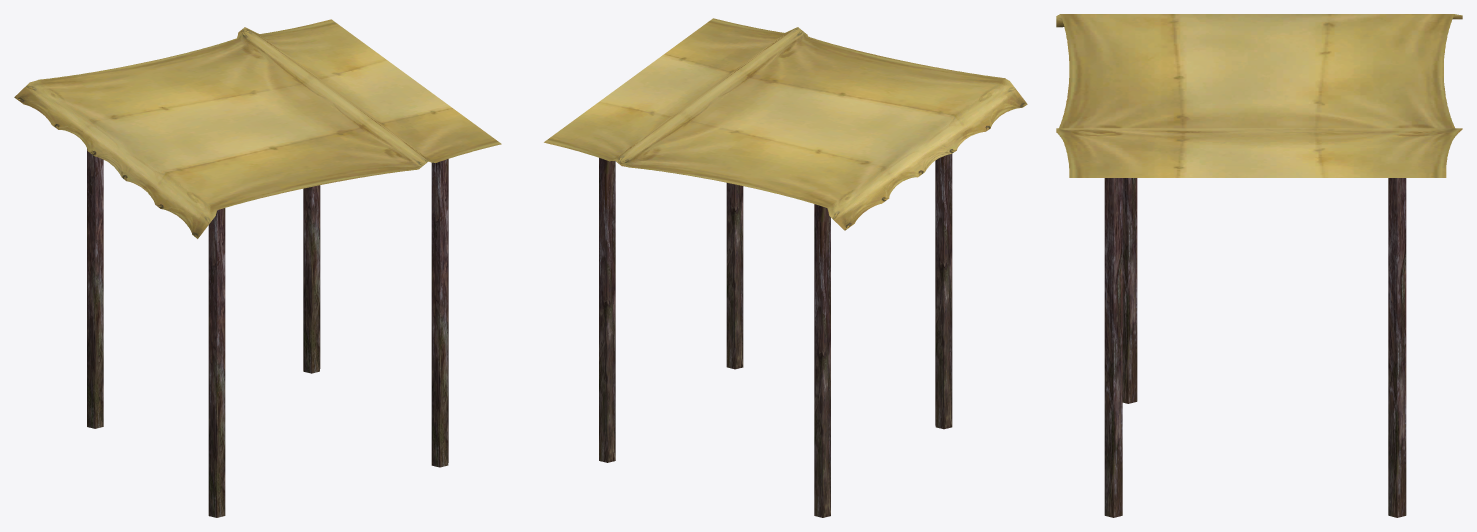
The model's file is shamo_wujian_pengzi.fbx.
The picture shows the model from 3 angles, left to right: view 1: azimuth 30°, elevation 25°; view 2: azimuth 150°, elevation 25°; view 3: azimuth 270°, elevation 25°; orthographic projection. The views are drawn at different scales.
Visible parts, largest first — view 1: polySurface285, polySurface287, polySurface289, polySurface286, polySurface288; view 2: polySurface285, polySurface286, polySurface288, polySurface289, polySurface287; view 3: polySurface285, polySurface287, polySurface288, polySurface289.
Boxes of the visible parts, x1,y1,x2,y2 form: polySurface285: (14,19,501,238); polySurface287: (431,159,448,467); polySurface289: (208,208,225,517); polySurface286: (87,149,103,428); polySurface288: (303,185,320,373); polySurface285: (544,18,1027,230); polySurface286: (814,204,830,517); polySurface288: (599,158,615,462); polySurface289: (935,154,952,429); polySurface287: (726,183,743,369); polySurface285: (1056,14,1462,177); polySurface287: (1104,178,1122,517); polySurface288: (1388,178,1406,517); polySurface289: (1122,178,1137,403).
Size of the model in its own units: 3.95 by 4.06 by 4.05.
